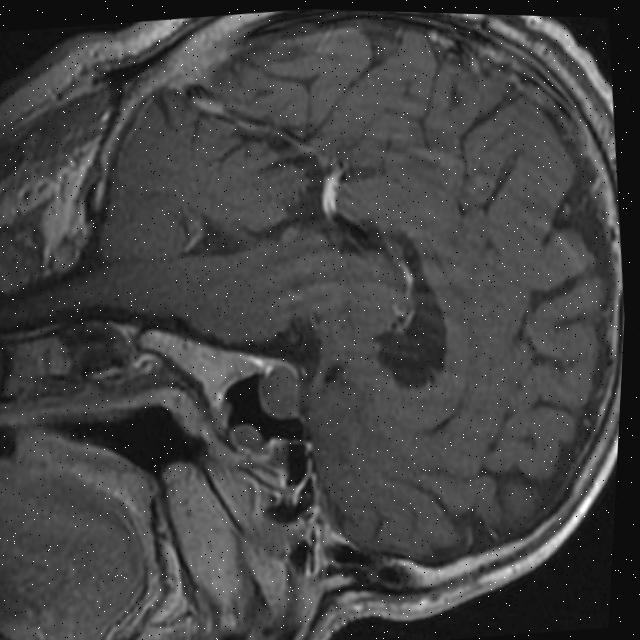Pituitary: (254, 360, 303, 425)
